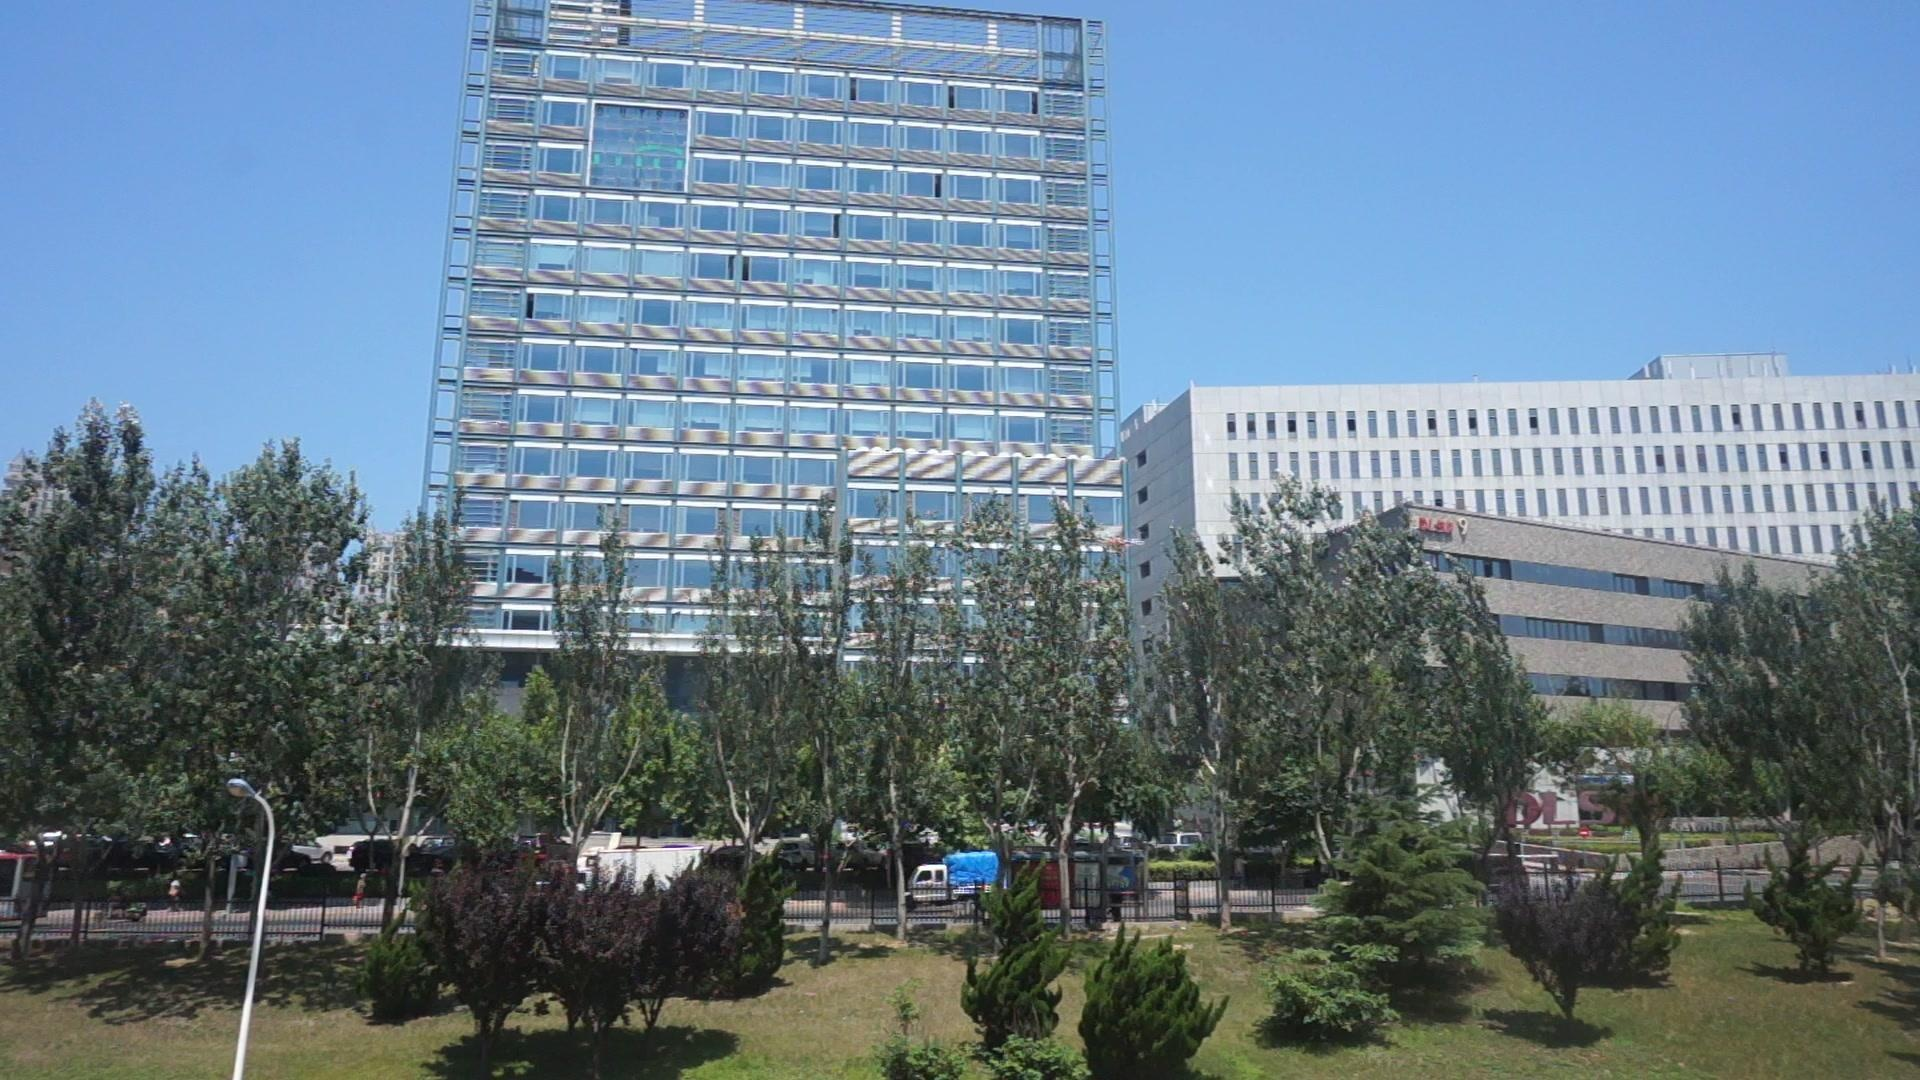UAV: (1098, 535, 1146, 551)
